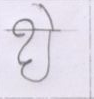e_matra: (31, 2, 60, 28)
